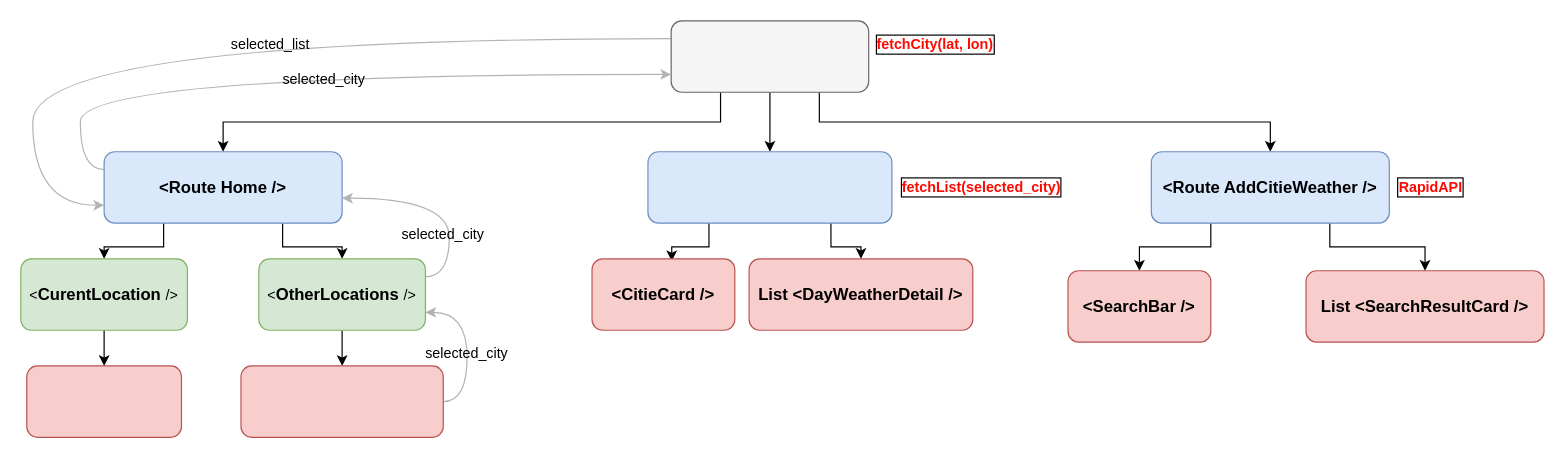
Some shapes in this 1565 by 458 pixel diagram are drawn without their labels. The box of each missing label's shape, as (x1, y1, x2, y2) in pixels:
<Route CitieWeatherDetail />: (647, 151, 892, 223)
App.jsx: (670, 20, 869, 92)
List <AddCitieCard />: (240, 365, 443, 437)
List <CitieCard />: (26, 365, 181, 437)
